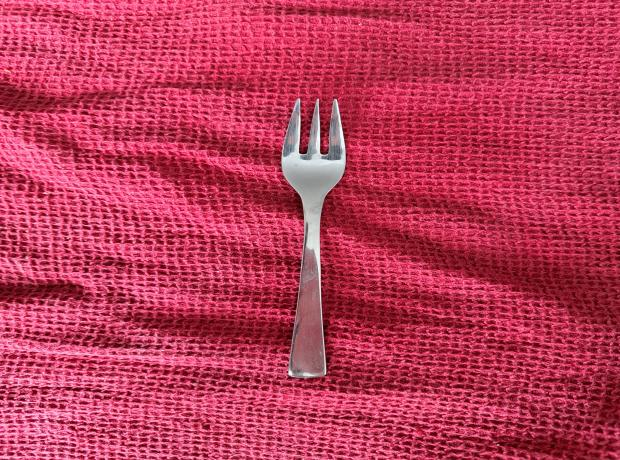metal: (271, 98, 348, 380)
